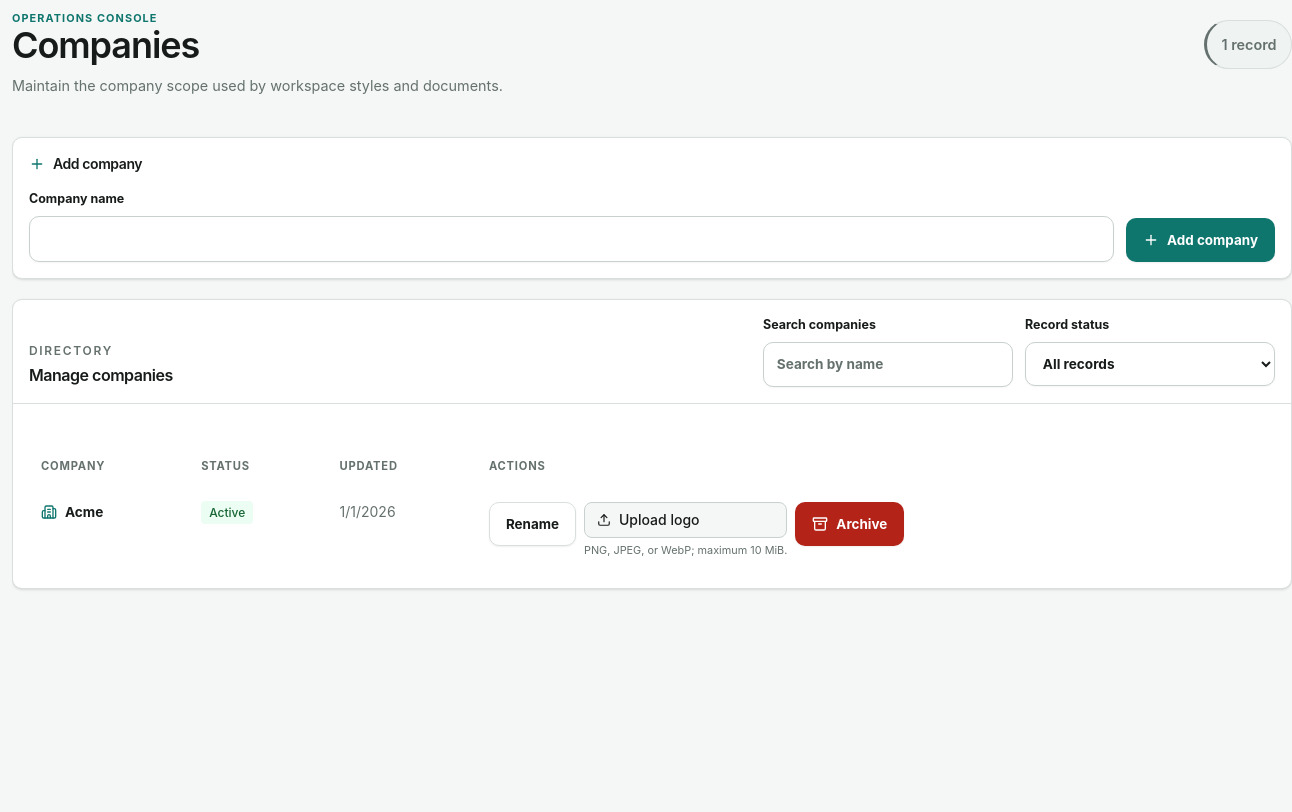
Test: CompaniesDashboard › prevents duplicate create requests while creation is pending
Type "Globex" into the field labelled "Company name".
click(572, 239); type("Globex")  # box [29,216,1114,262]
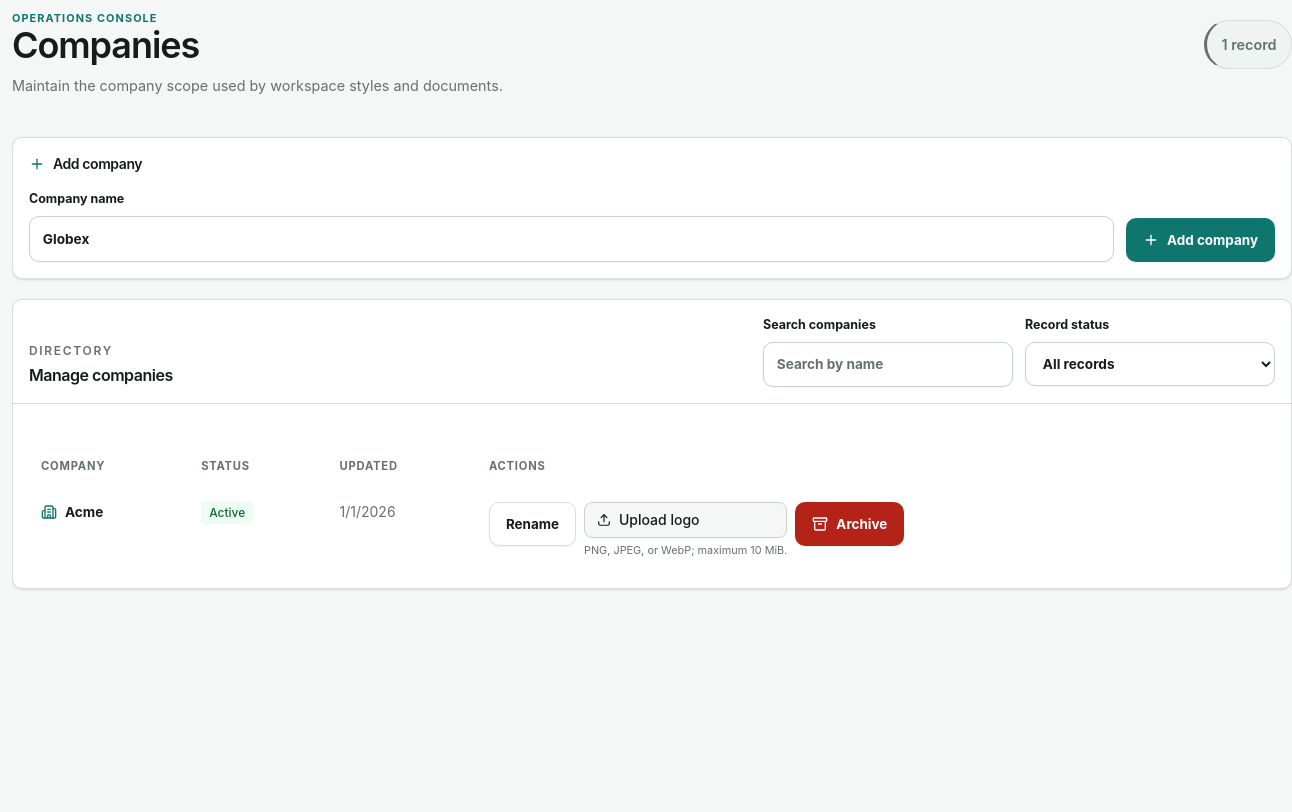
Click the button "Add company".
click(1201, 240)  # box [1126,218,1275,262]
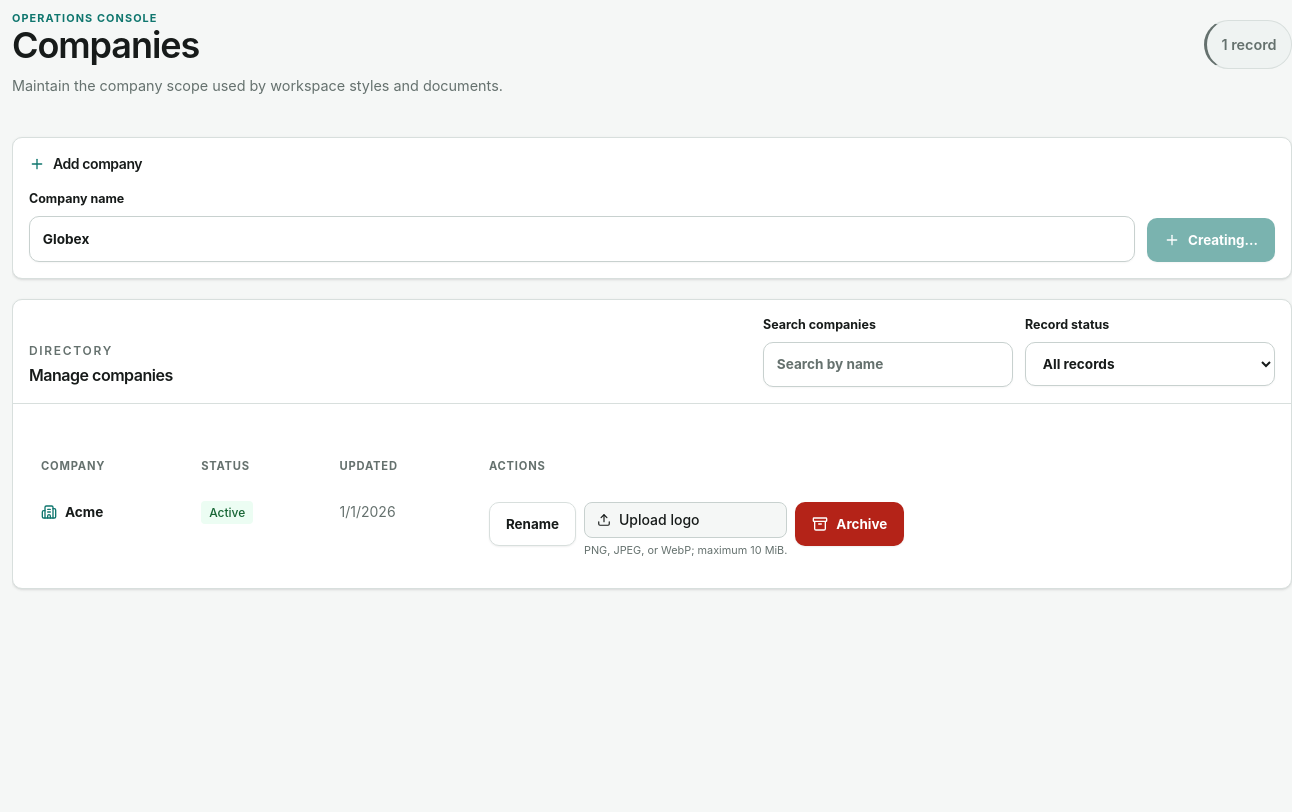
Click the button "Creating…".
click(1211, 240)  # box [1147,218,1275,262]
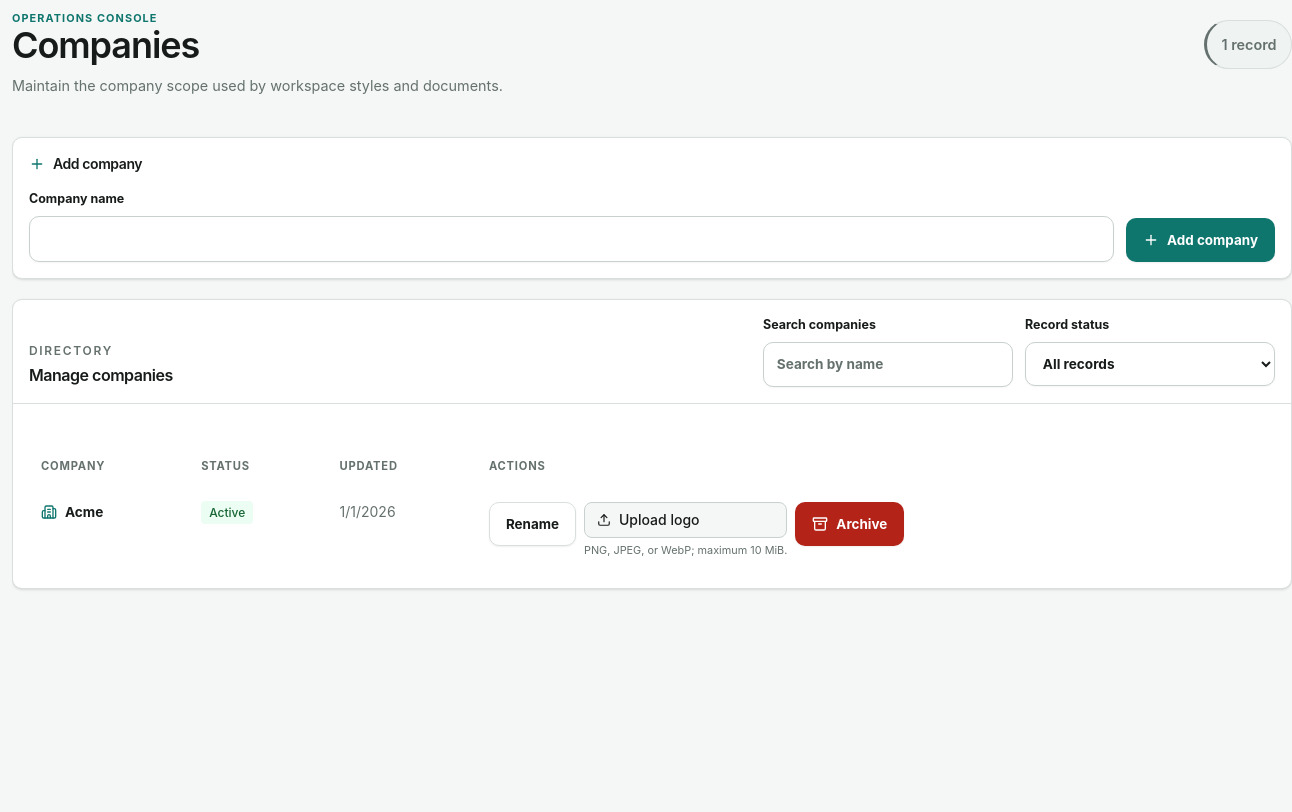
Result: the button "Add company" is enabled at [1126,218,1275,262]
